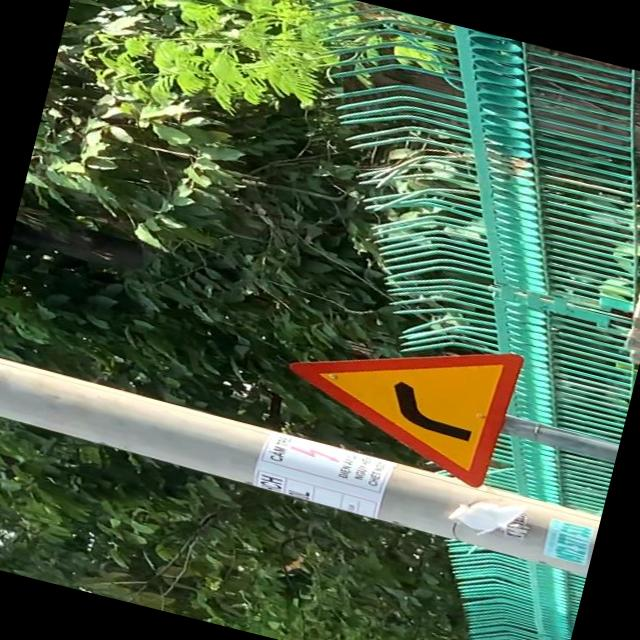W-201b: (270, 299, 525, 490)
